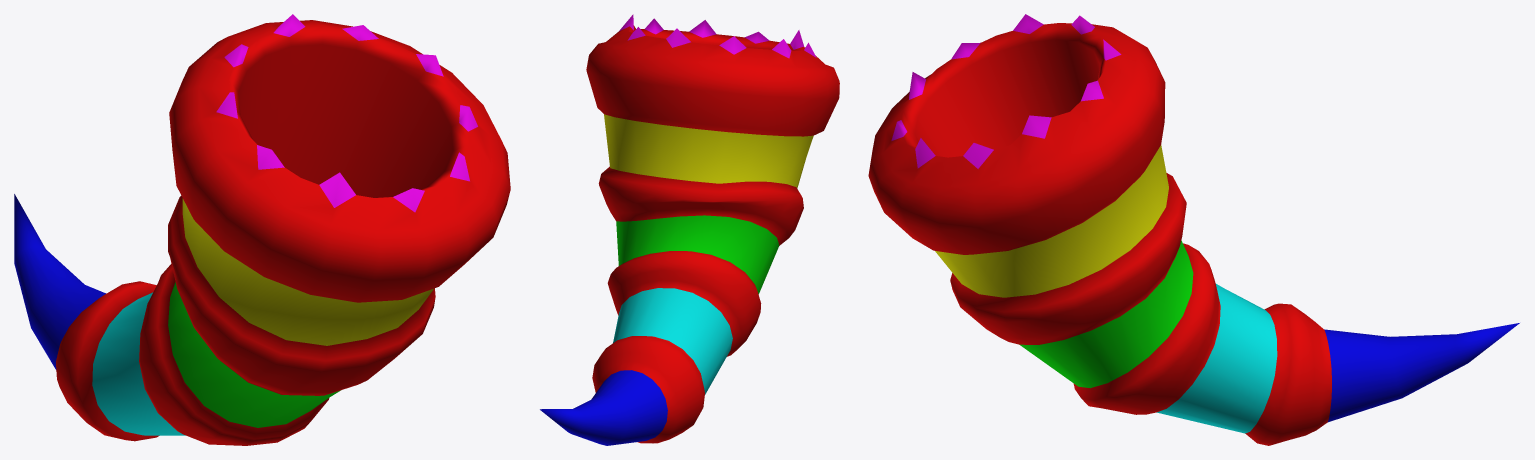
File: GoblinHorn.fbx
The picture shows the model from 3 angles, left to right: view 1: azimuth 30°, elevation 25°; view 2: azimuth 150°, elevation 25°; view 3: azimuth 270°, elevation 25°; orthographic projection. The views are drawn at different scales.
Visible parts, largest first — view 1: Goblin_Horn; view 2: Goblin_Horn; view 3: Goblin_Horn.
Part boxes in pixels (left/top/right/bottom): Goblin_Horn: left=14, top=14, right=510, bottom=445; Goblin_Horn: left=540, top=14, right=839, bottom=445; Goblin_Horn: left=868, top=14, right=1519, bottom=445.
Size of the model in its own units: 0.3434 by 0.5147 by 0.7161.
